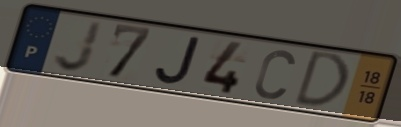4: (200, 39, 245, 96)
7: (107, 21, 156, 82)
C: (252, 47, 298, 101)
D: (290, 49, 351, 109)
J: (51, 18, 106, 74), (153, 35, 204, 87)
